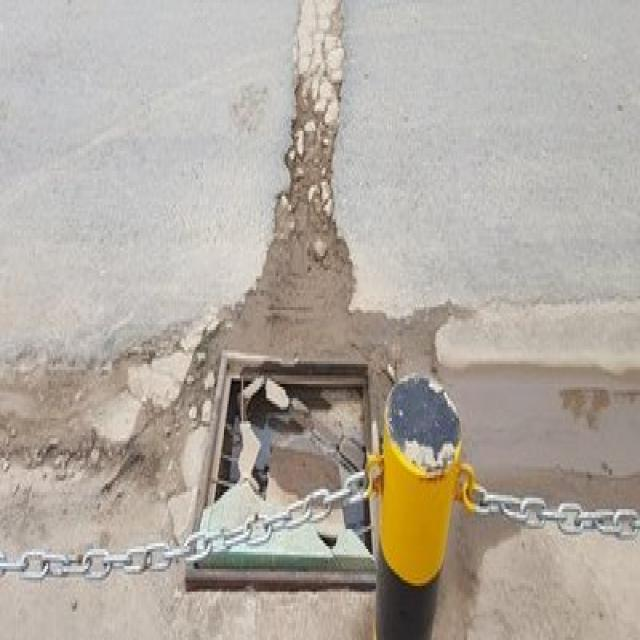manhole: (180, 336, 378, 586)
